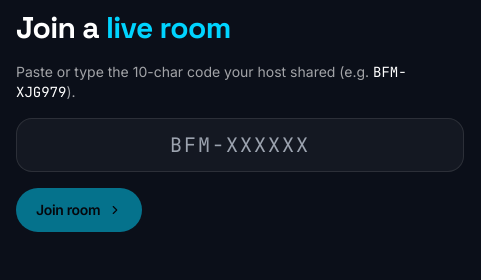
Scenario: Phase 16b join input normalizes variants to canonical BFM-XXXXXX
The image size is (481, 280).
Later steps or results of the test are not shown.
Type "BFM-9U32KK" into the field with test id "trivia-join-input" at (240, 145), box x1=16 y1=118 x2=464 y2=172
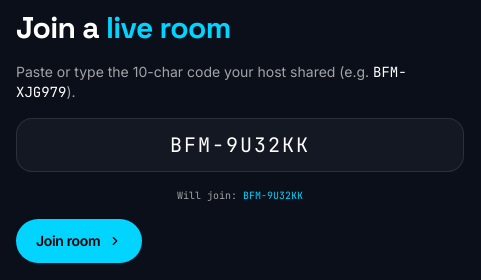
Check: the element with test id "trivia-join-preview" shows "BFM-9U32KK", box x1=243 y1=189 x2=303 y2=202
Check: the button with test id "trivia-join-btn" is enabled, box x1=16 y1=219 x2=142 y2=263
